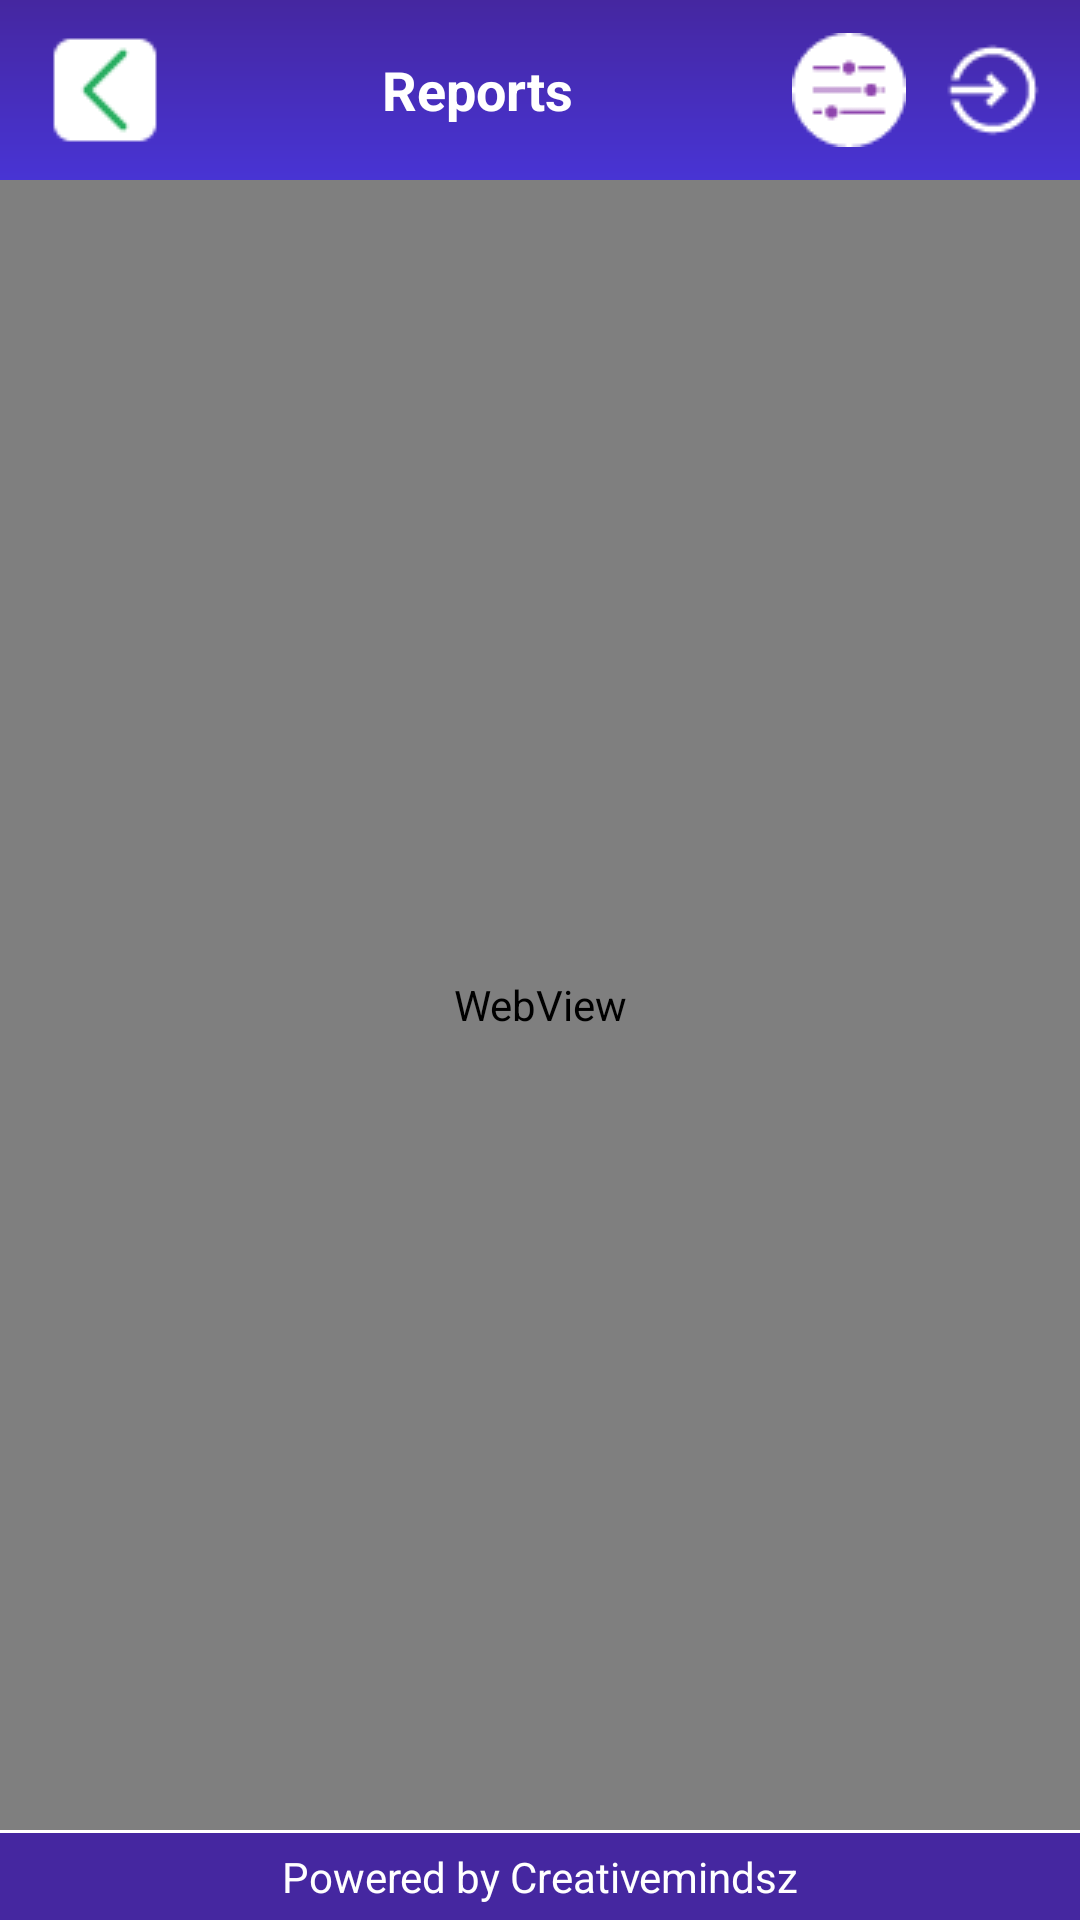

Where to tap for icons on this 1080x1920 app screen, as (x=x, y=y):
back: (x=105, y=92)
exit: (x=993, y=96)
options: (x=849, y=90)
